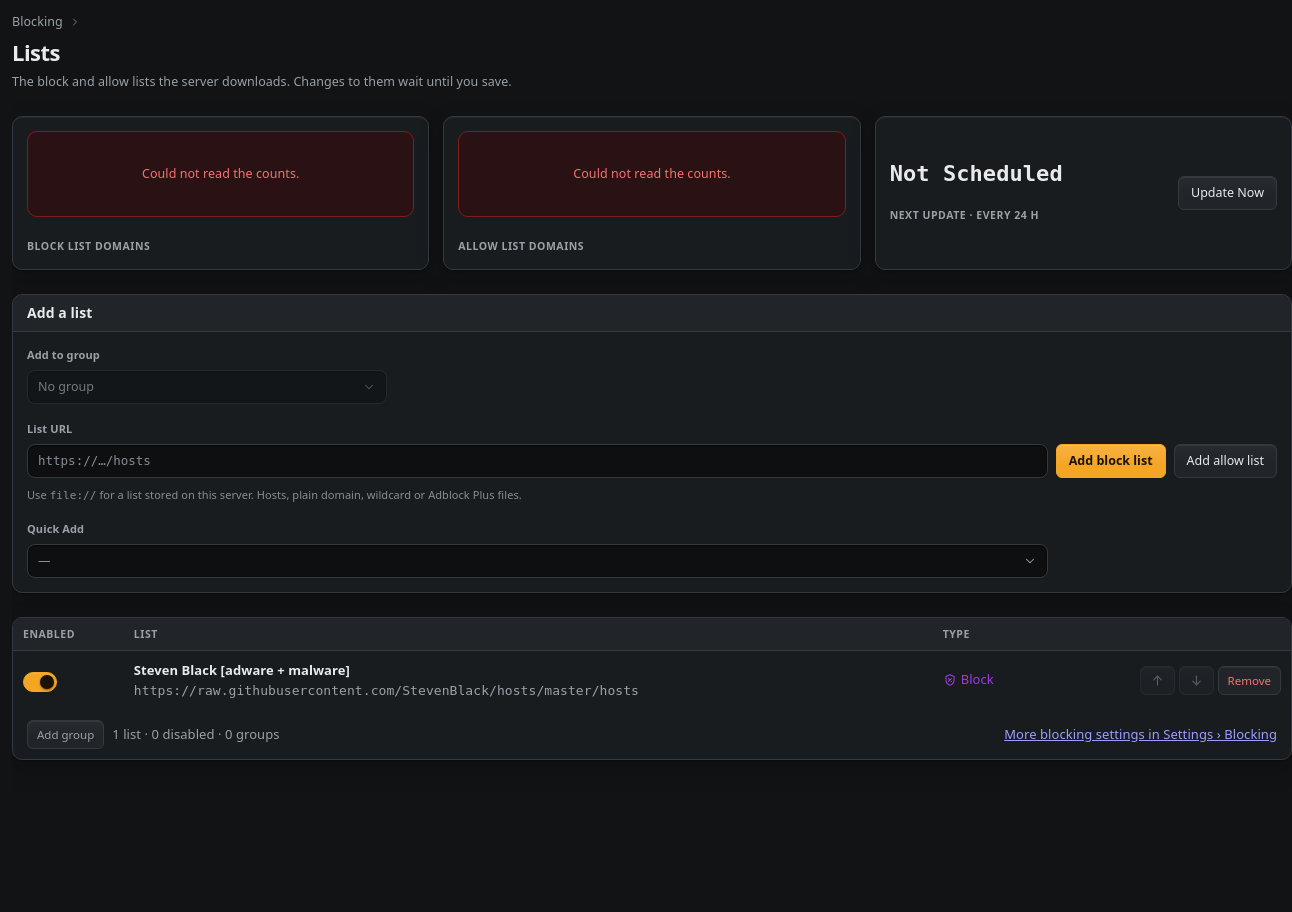
Test case: BlockLists › nothing is saved until Save, and Save sends only blockListUrls on the cluster
The image size is (1292, 912).
Click the checkbox named "Enabled" at x=40, y=682, box [23,672,57,692]
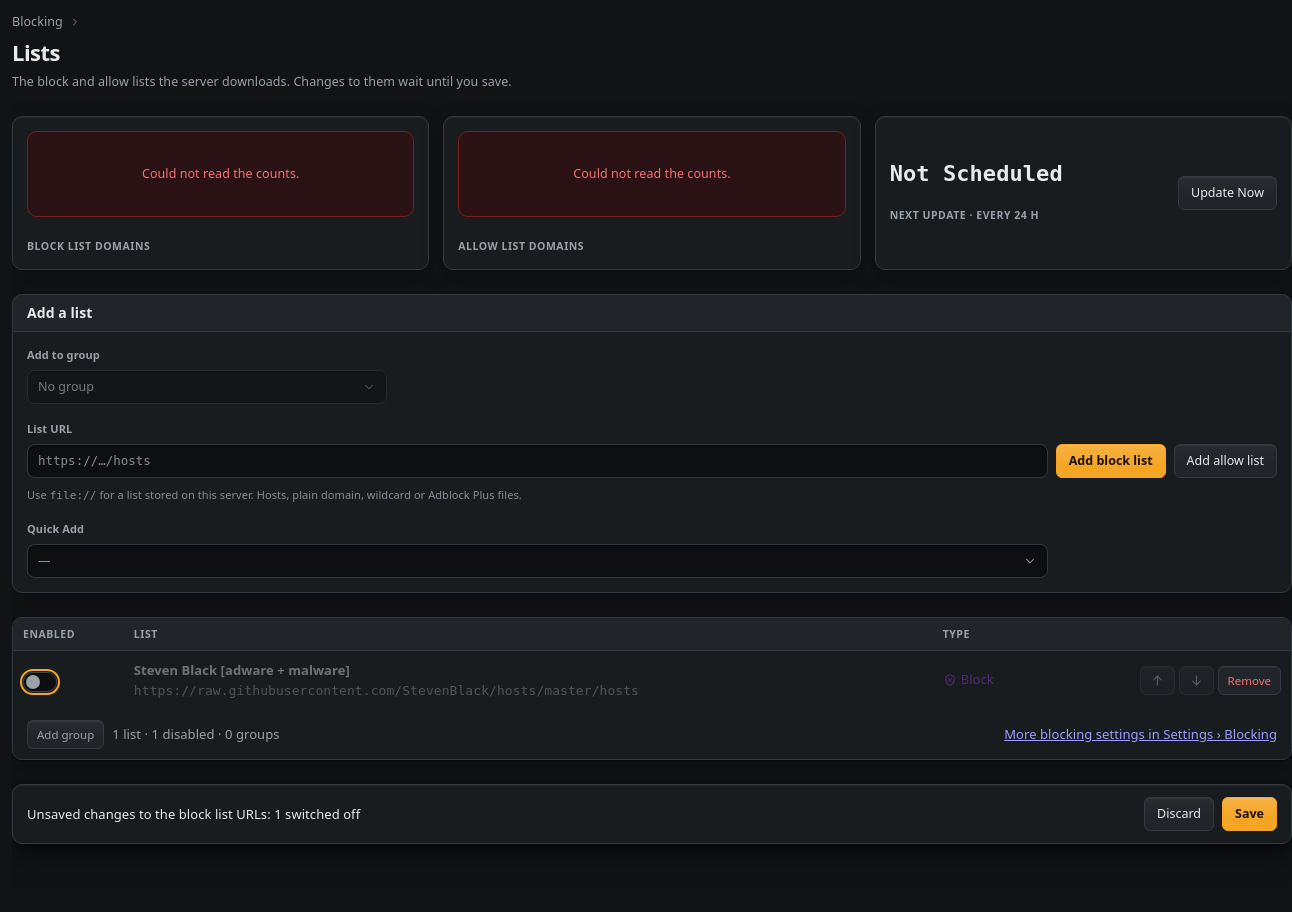
Expected: the text "Unsaved changes to the block list URLs: 1 switched off" is shown, [27,804,360,824]
Click the button "Save" at x=1250, y=814, box [1222,797,1277,831]
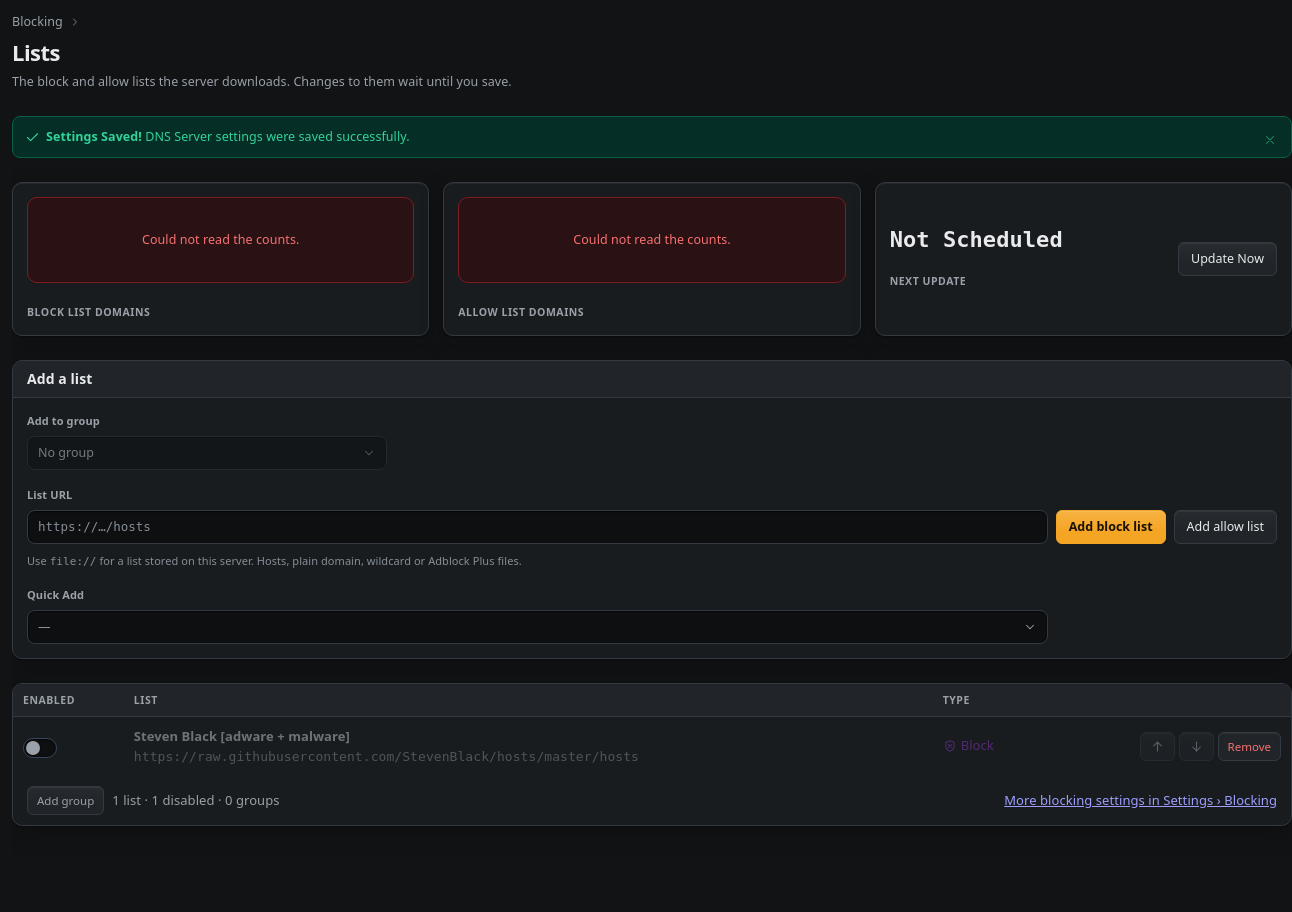
Expected: the text "DNS Server settings were saved successfully." is shown, [145,128,410,145]
Expected: the text "Unsaved changes" is gone
